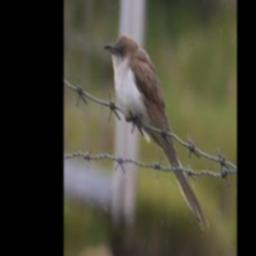Cuckoo: (104, 35, 210, 228)
